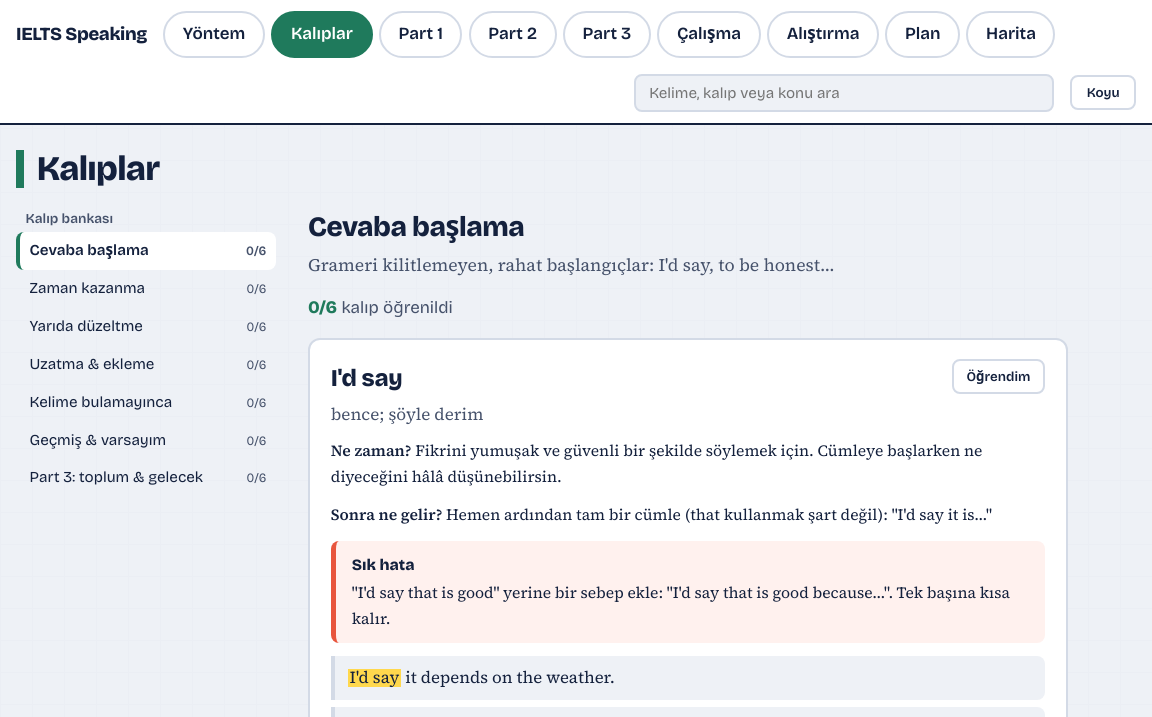
Test: phrases page › learned toggle updates counter
Expected: the element named "İlerleme" shows "0/6", [308, 297, 453, 318]
Click the button "Öğrendim" at x=998, y=376, box [952, 359, 1045, 394]
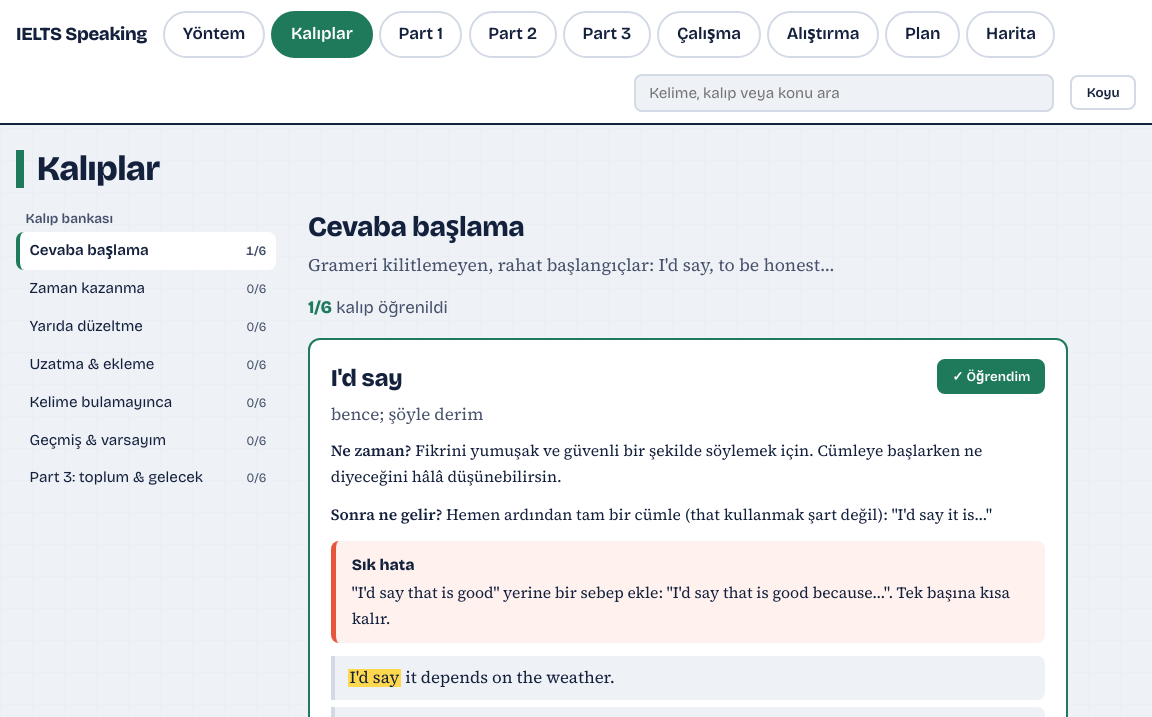
Result: the element named "İlerleme" shows "1/6" at [308, 297, 448, 318]
